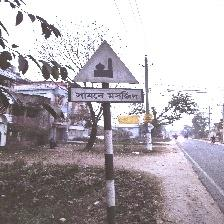Mosque in front: (71, 42, 142, 104)
